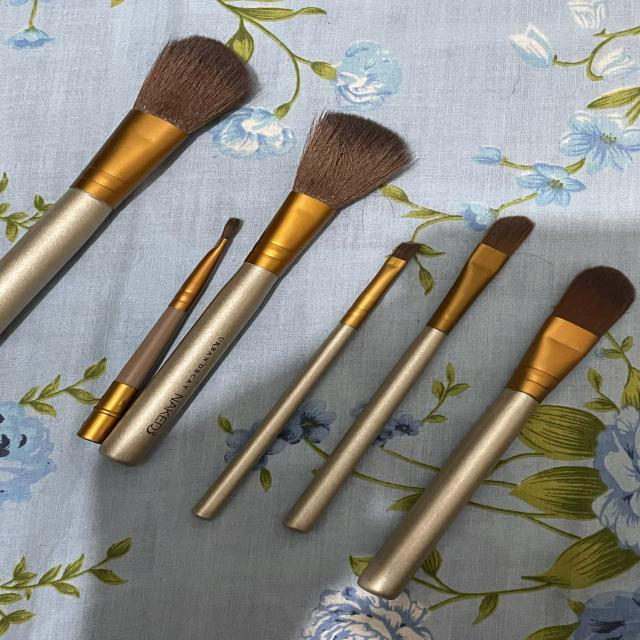brush: (66, 22, 640, 640), (163, 107, 428, 305), (81, 36, 284, 144), (448, 180, 551, 295), (539, 237, 640, 349), (354, 221, 441, 285)
